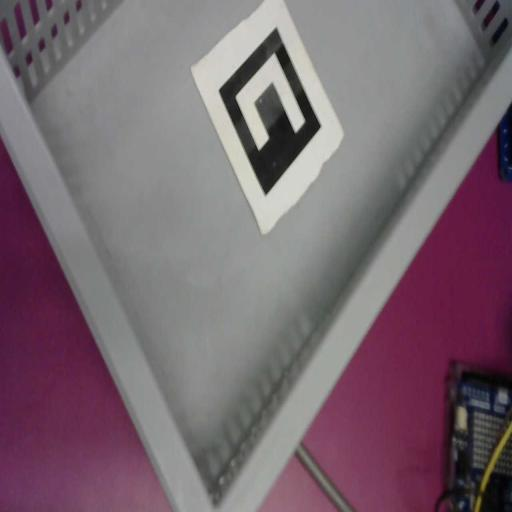QR: (188, 0, 346, 235)
